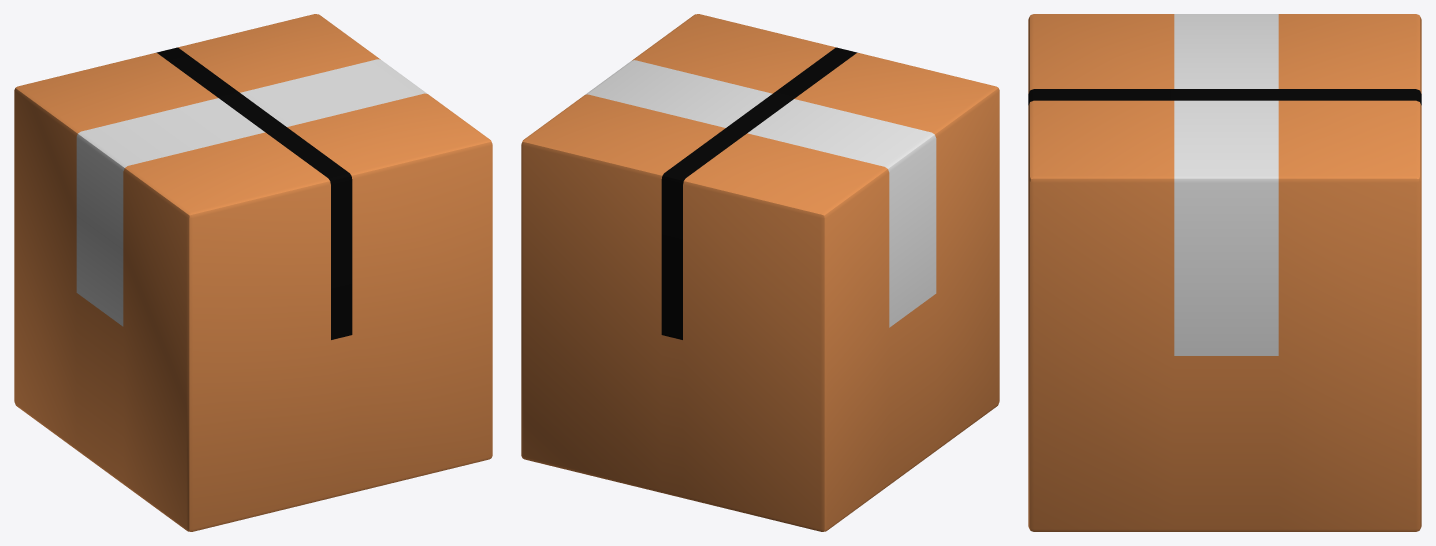
The picture shows the model from 3 angles, left to right: view 1: azimuth 30°, elevation 25°; view 2: azimuth 150°, elevation 25°; view 3: azimuth 270°, elevation 25°; orthographic projection. The views are drawn at different scales.
Parts seen in each view (by area): view 1: Cube; view 2: Cube; view 3: Cube.
Boxes of the visible parts, box(x1,y1,x2,y2) form: Cube: box(14, 14, 492, 531); Cube: box(521, 14, 999, 531); Cube: box(1028, 14, 1421, 531).
Size of the model in its own units: 200 by 200 by 200.
